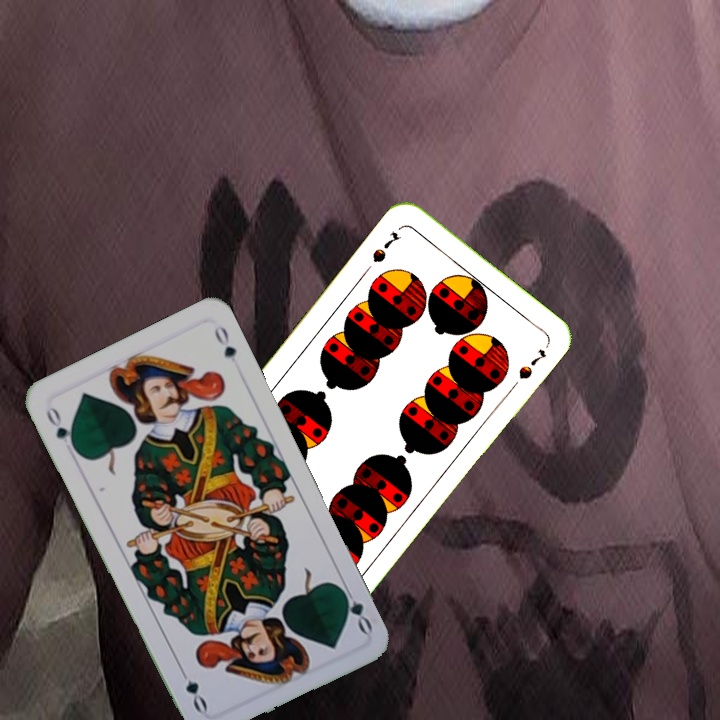GO: (335, 580, 375, 636), (42, 403, 80, 455)
S7: (368, 227, 403, 266)
